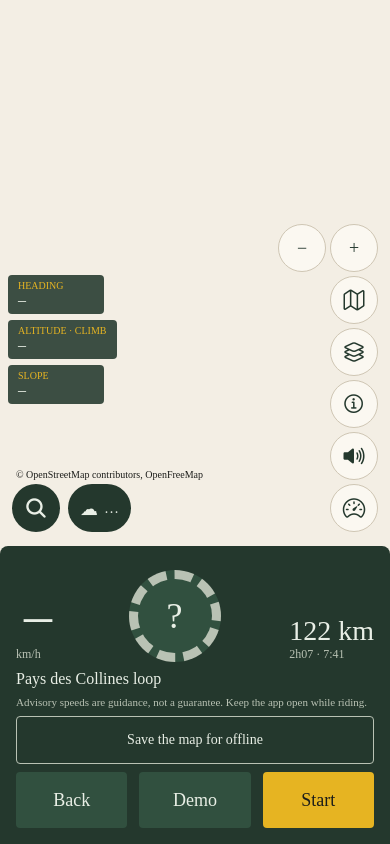
it: without a route it says so and points the straight line, and the rider is never off route on it
Click the button "Start". click: (318, 800)
box: [263, 772, 374, 828]
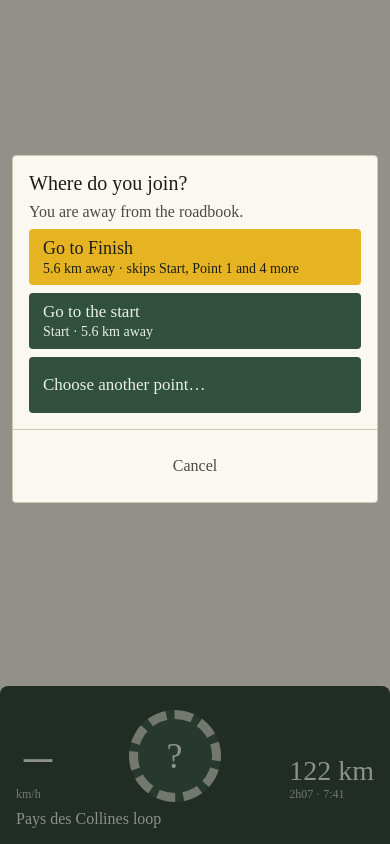
# Away from the roadbook the app asks where to join (ADR 0016): to the start, here.
Click the text "Go to the start". click: (91, 312)
box: [43, 302, 140, 321]
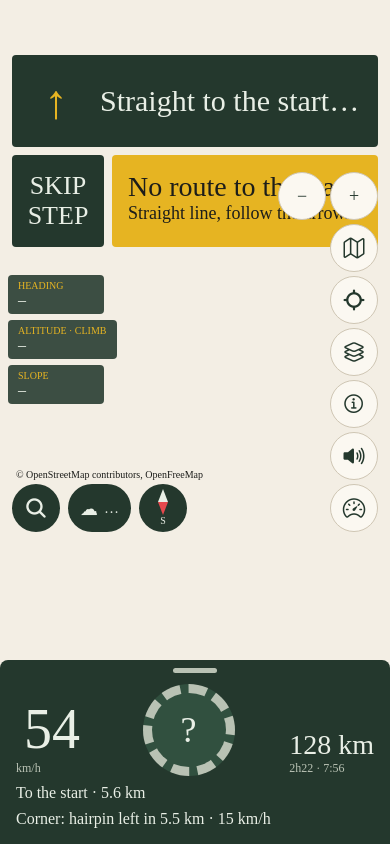
Check: the text "No route to the start" is shown, box [128, 171, 362, 203]
